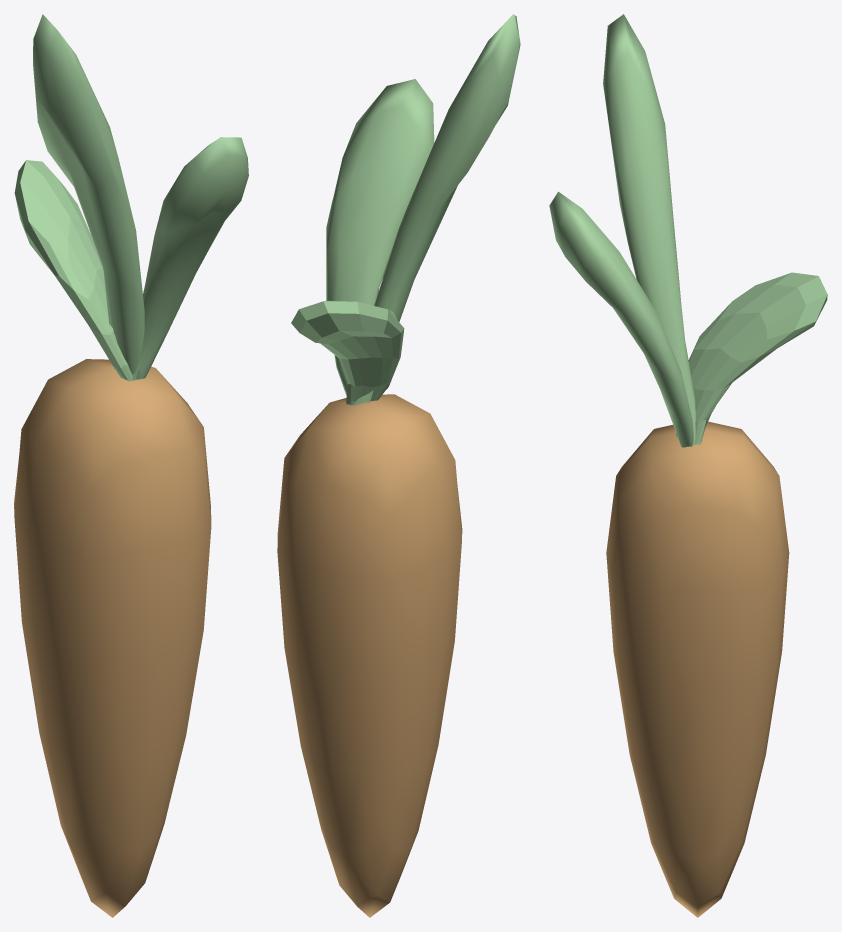
File: carrot4.fbx
3 views of the same model, side by side, from view 1: azimuth 30°, elevation 25°; view 2: azimuth 150°, elevation 25°; view 3: azimuth 270°, elevation 25° (orthographic). The views are drawn at different scales.
Visible parts, largest first — view 1: Cube; view 2: Cube; view 3: Cube.
Part boxes in pixels (x1,y1,x2,y2): Cube: (14,14,248,917); Cube: (277,14,520,917); Cube: (549,14,827,917).
Size of the model in its own units: 34.35 by 155 by 45.71.
